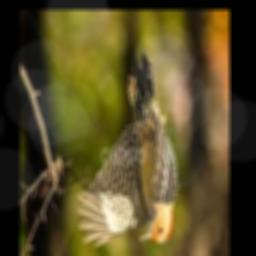Woodpecker: (77, 53, 178, 247)
